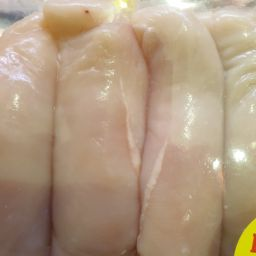Chicken breast: (42, 4, 145, 256), (124, 2, 226, 256), (2, 1, 256, 87), (192, 4, 256, 256), (2, 6, 52, 256)
